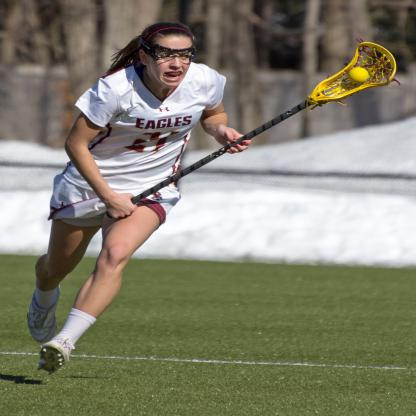Ball: (348, 66, 371, 85)
